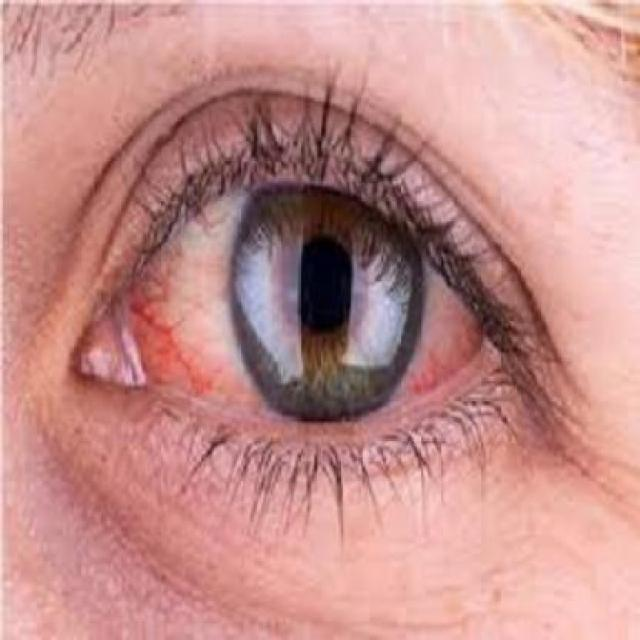awake: (73, 85, 501, 506)
